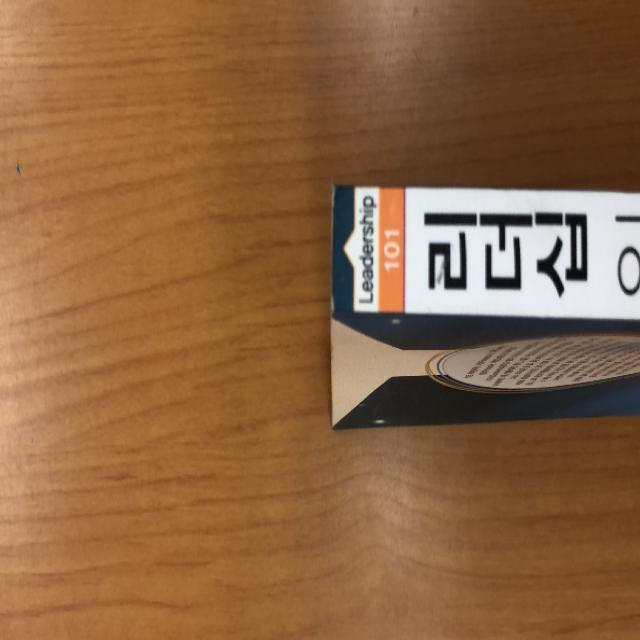Wornout: (327, 177, 355, 321)
